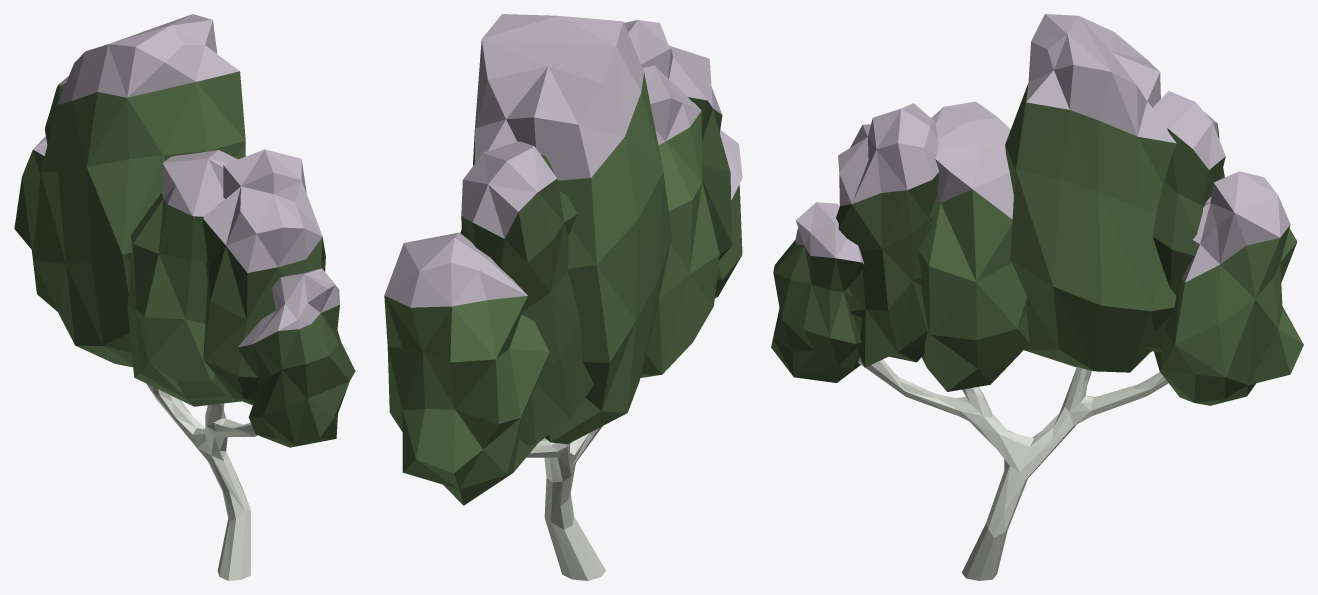
File: BirchTree_Snow_4.lod1.glb
3 renders of one model, left to right at view 1: azimuth 30°, elevation 25°; view 2: azimuth 150°, elevation 25°; view 3: azimuth 270°, elevation 25°, orthographic. The views are drawn at different scales.
Parts seen in each view (by area): view 1: BirchTree_Snow_4; view 2: BirchTree_Snow_4; view 3: BirchTree_Snow_4.
Part boxes in pixels (x1,y1,x2,y2): BirchTree_Snow_4: [14, 14, 355, 580]; BirchTree_Snow_4: [384, 14, 742, 580]; BirchTree_Snow_4: [771, 14, 1303, 580].
Bounding box in the file's own units: 1.15 × 3.6 × 3.29.
